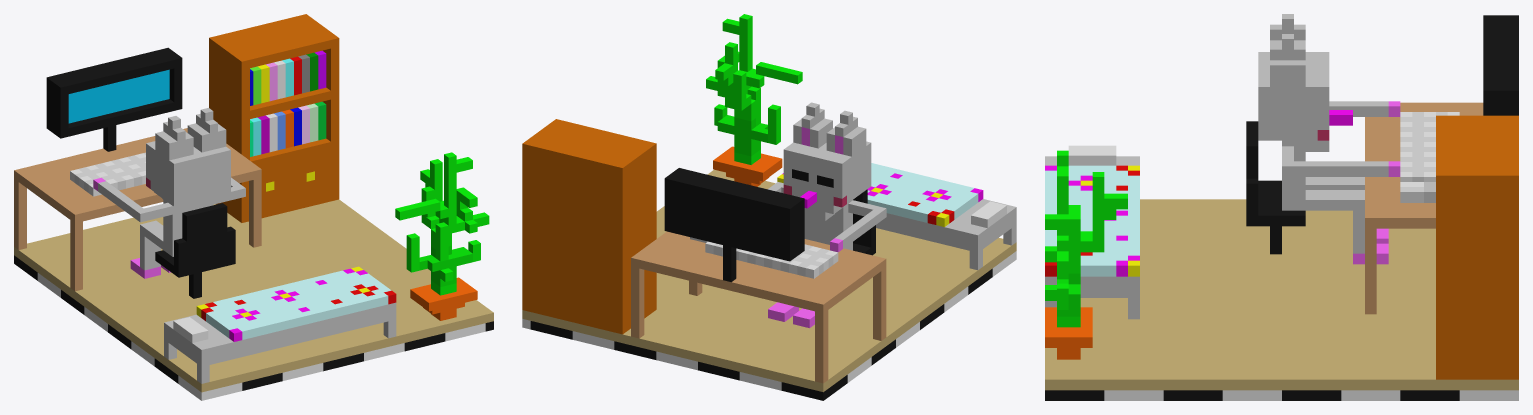
The model's file is voxel.glb.
The picture shows the model from 3 angles, left to right: view 1: azimuth 30°, elevation 25°; view 2: azimuth 150°, elevation 25°; view 3: azimuth 270°, elevation 25°; orthographic projection. The views are drawn at different scales.
Parts seen in each view (by area): view 1: Untitled; view 2: Untitled; view 3: Untitled.
Part boxes in pixels (bbox=[...]): Untitled: bbox=[14, 14, 493, 400]; Untitled: bbox=[522, 14, 1016, 400]; Untitled: bbox=[1045, 14, 1518, 400].
Size of the model in its own units: 3.6 by 2.3 by 4.
1 material, 1 textured.
